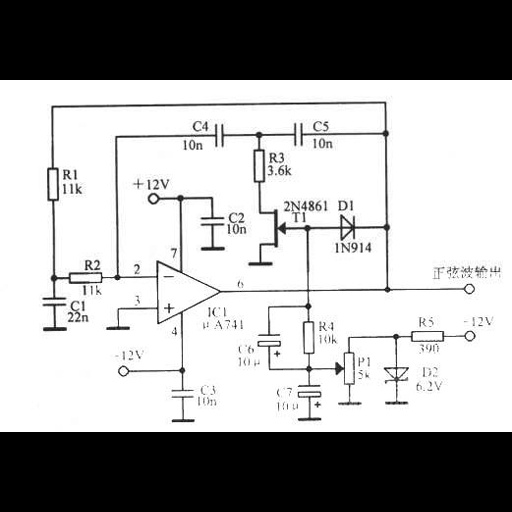amplifier: (153, 259, 222, 324)
capacitor: (287, 119, 307, 149), (165, 386, 196, 402), (211, 120, 227, 151), (197, 213, 226, 229), (39, 295, 68, 309)
firstresistance: (43, 164, 61, 206), (64, 271, 115, 285), (299, 320, 317, 357), (251, 147, 267, 187), (408, 328, 446, 343)
seconddiode: (333, 212, 362, 242)
secondpolarcapacitor: (255, 330, 287, 358), (295, 382, 328, 408)
